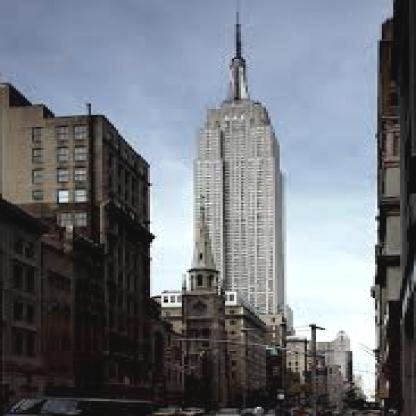Empire-State-building: (189, 0, 290, 311)
